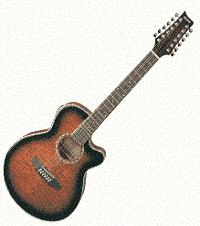guitar: (3, 10, 194, 221)
